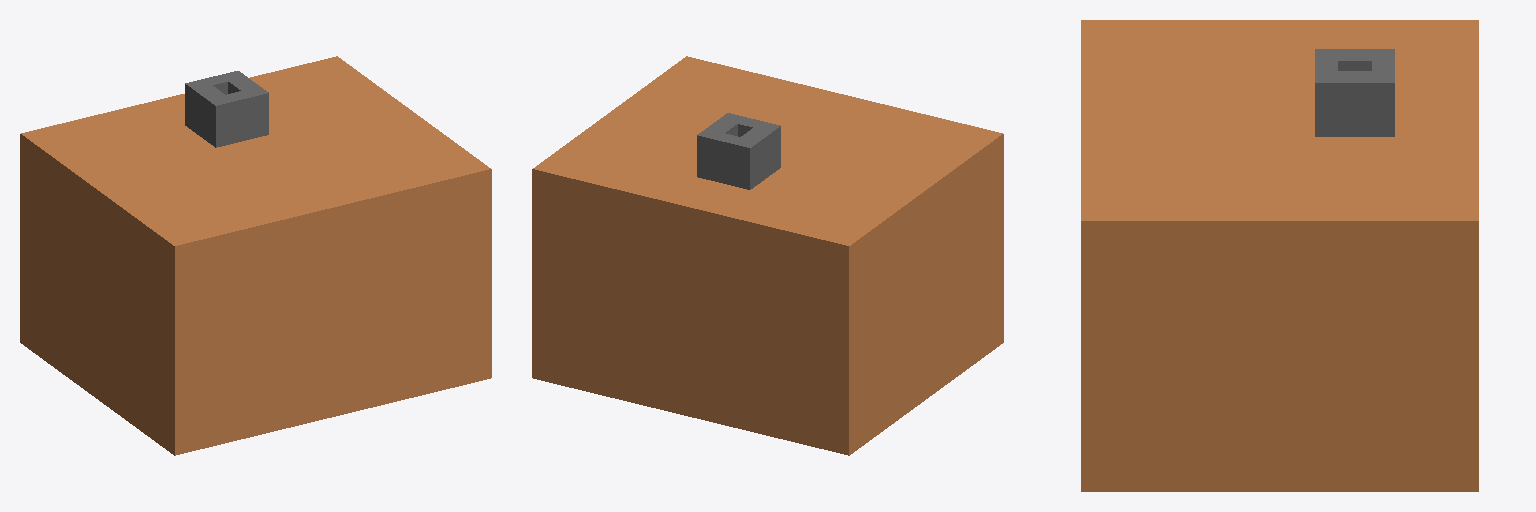
The robot description file, URDF, robot "peg_in_hole_scene_0030_tol07":
<?xml version="1.0"?>
<robot name="peg_in_hole_scene_0030_tol07">
  <material name="wood"><color rgba="0.82 0.56 0.35 1.0"/></material>
  <material name="hole_grey"><color rgba="0.4706 0.4706 0.4706 1.0"/></material>
  <link name="box">
    <visual>
      <origin xyz="0.000000 0.000000 0.000000" rpy="0 0 0"/>
      <geometry><box size="0.475000 0.400000 0.300000"/></geometry>
      <material name="wood"/>
    </visual>
    <collision>
      <origin xyz="0.000000 0.000000 0.000000" rpy="0 0 0"/>
      <geometry><box size="0.475000 0.400000 0.300000"/></geometry>
    </collision>
    <visual>
      <origin xyz="-0.000032 0.075030 0.155000" rpy="0 0 0"/>
      <geometry><box size="0.080000 0.080000 0.010000"/></geometry>
      <material name="hole_grey"/>
    </visual>
    <collision>
      <origin xyz="-0.000032 0.075030 0.155000" rpy="0 0 0"/>
      <geometry><box size="0.080000 0.080000 0.010000"/></geometry>
    </collision>
    <visual>
      <origin xyz="0.025874 0.075030 0.185000" rpy="0 0 0"/>
      <geometry><box size="0.028188 0.080000 0.050000"/></geometry>
      <material name="hole_grey"/>
    </visual>
    <collision>
      <origin xyz="0.025874 0.075030 0.185000" rpy="0 0 0"/>
      <geometry><box size="0.028188 0.080000 0.050000"/></geometry>
    </collision>
    <visual>
      <origin xyz="-0.025938 0.075030 0.185000" rpy="0 0 0"/>
      <geometry><box size="0.028188 0.080000 0.050000"/></geometry>
      <material name="hole_grey"/>
    </visual>
    <collision>
      <origin xyz="-0.025938 0.075030 0.185000" rpy="0 0 0"/>
      <geometry><box size="0.028188 0.080000 0.050000"/></geometry>
    </collision>
    <visual>
      <origin xyz="-0.000032 0.103436 0.185000" rpy="0 0 0"/>
      <geometry><box size="0.023624 0.023188 0.050000"/></geometry>
      <material name="hole_grey"/>
    </visual>
    <collision>
      <origin xyz="-0.000032 0.103436 0.185000" rpy="0 0 0"/>
      <geometry><box size="0.023624 0.023188 0.050000"/></geometry>
    </collision>
    <visual>
      <origin xyz="-0.000032 0.046624 0.185000" rpy="0 0 0"/>
      <geometry><box size="0.023624 0.023188 0.050000"/></geometry>
      <material name="hole_grey"/>
    </visual>
    <collision>
      <origin xyz="-0.000032 0.046624 0.185000" rpy="0 0 0"/>
      <geometry><box size="0.023624 0.023188 0.050000"/></geometry>
    </collision>
    <inertial>
      <mass value="500"/>
      <friction value="1.0"/>
      <inertia ixx="1000.0" ixy="0.0" ixz="0.0" iyy="1000.0" iyz="0.0" izz="1000.0"/>
    </inertial>
  </link>
</robot>

--- Render facts (derived) ---
The picture shows the robot from 3 angles, left to right: view 1: azimuth 30°, elevation 25°; view 2: azimuth 150°, elevation 25°; view 3: azimuth 270°, elevation 25°; orthographic projection.
Robot: peg_in_hole_scene_0030_tol07 — 1 links, 0 joints (none); root link box; default pose: every joint at zero.
Links seen in each view (by area): view 1: box; view 2: box; view 3: box.
Boxes of the visible links, bbox=[...] form: box: bbox=[20, 56, 491, 455]; box: bbox=[532, 56, 1003, 455]; box: bbox=[1081, 20, 1478, 491].
Size in the robot's own frame: 0.475 by 0.4 by 0.36 metres.
Geometry: primitives only (box / cylinder / sphere), no mesh files.
